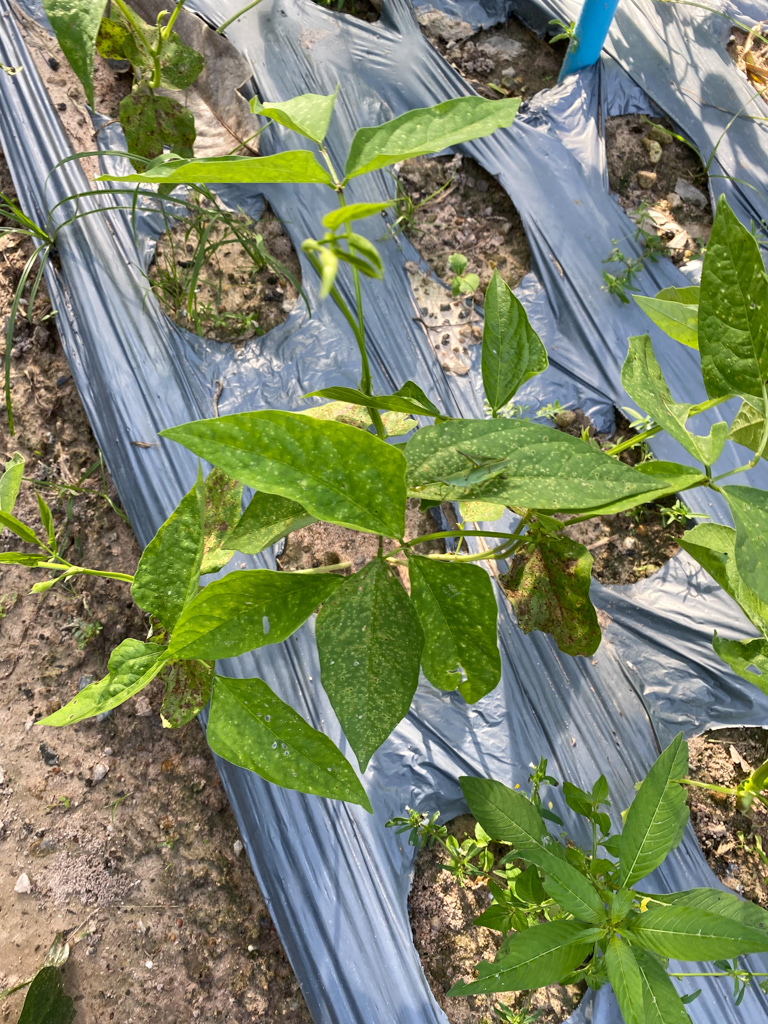Rust: (166, 409, 410, 536), (405, 417, 670, 509), (314, 559, 424, 775), (209, 673, 373, 816), (153, 572, 331, 661), (407, 553, 506, 706), (502, 532, 610, 662), (701, 209, 766, 400), (136, 468, 200, 650), (620, 352, 711, 467), (40, 641, 153, 731), (118, 86, 194, 178), (106, 18, 198, 87), (48, 5, 101, 115), (732, 491, 765, 594), (157, 663, 207, 730)
